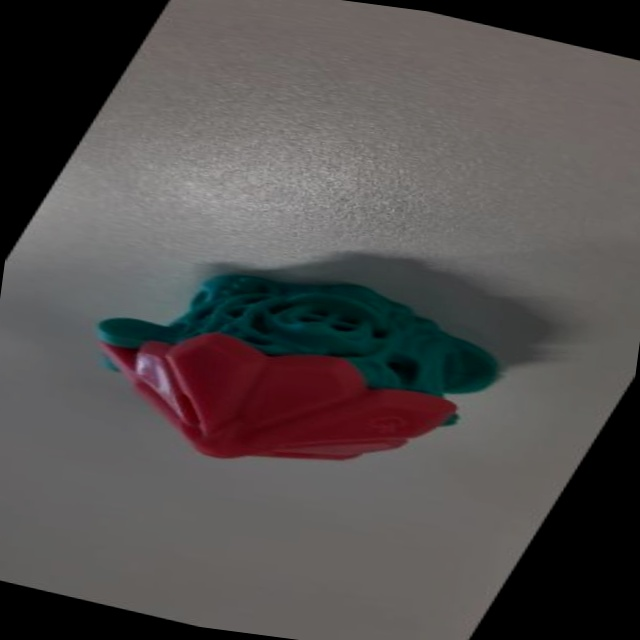House: (11, 218, 555, 535)
